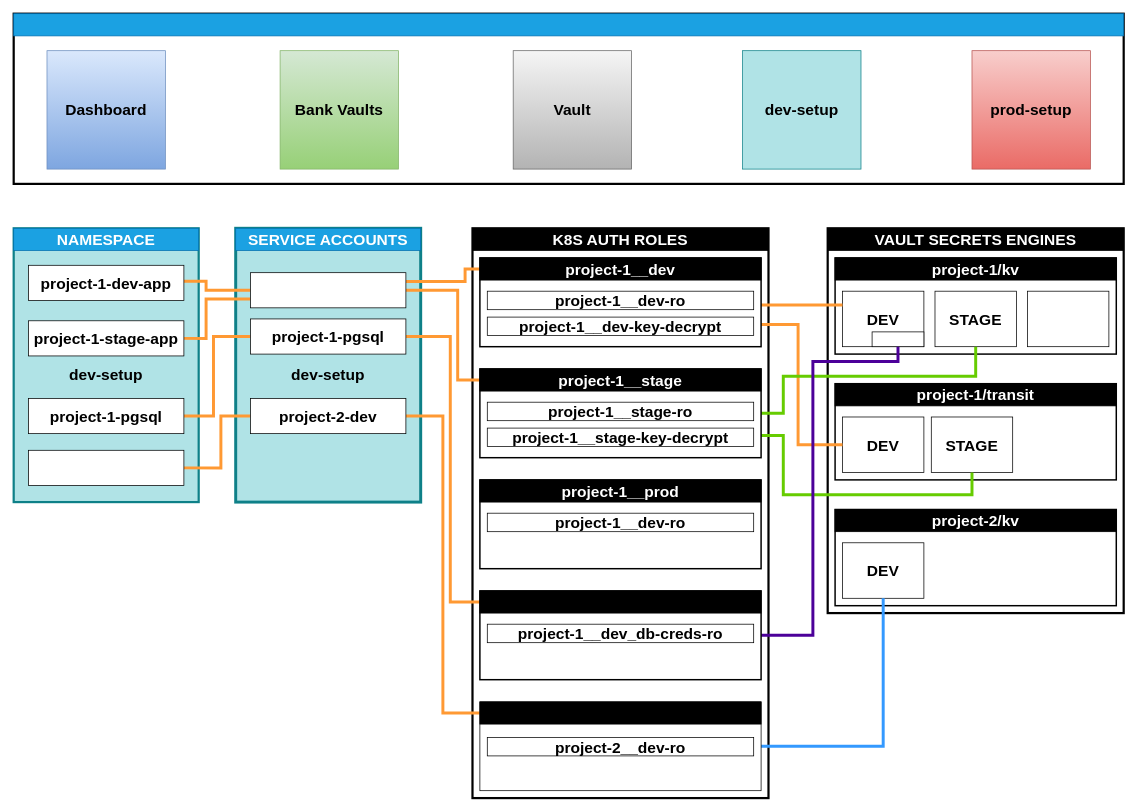
The diagram is 1137 pixels wide and 812 high, and some of its shapes have lost their labels. The shapes that lost their labels are listed below. From the top down, each one's centre as x and y in pixels, then its label:
At pixel 568 24: "NAMESPACES".
At pixel 328 290: "default".
At pixel 1068 318: "PROD".
At pixel 897 339: "DB CREDS".
At pixel 106 467: "project-2-dev-app".
At pixel 620 601: "project-1__pgsql".
At pixel 620 712: "project-2__dev".
